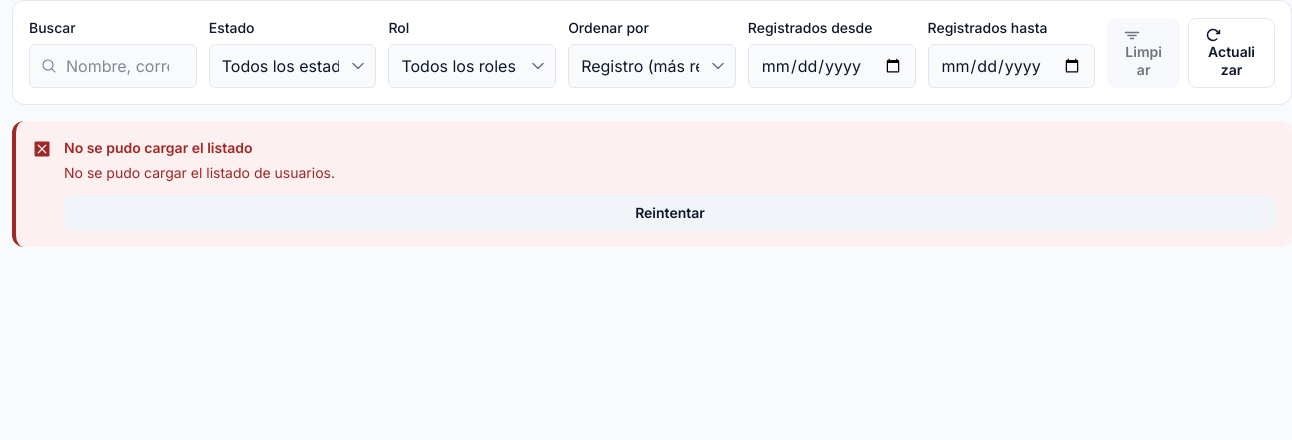
it: AdminUsersScreen › muestra error con reintento y recupera el listado
expect the text "No se pudo cargar el listado" is shown: met, box [64, 139, 252, 156]
Click the button "Reintentar": (670, 213) [64, 195, 1276, 231]
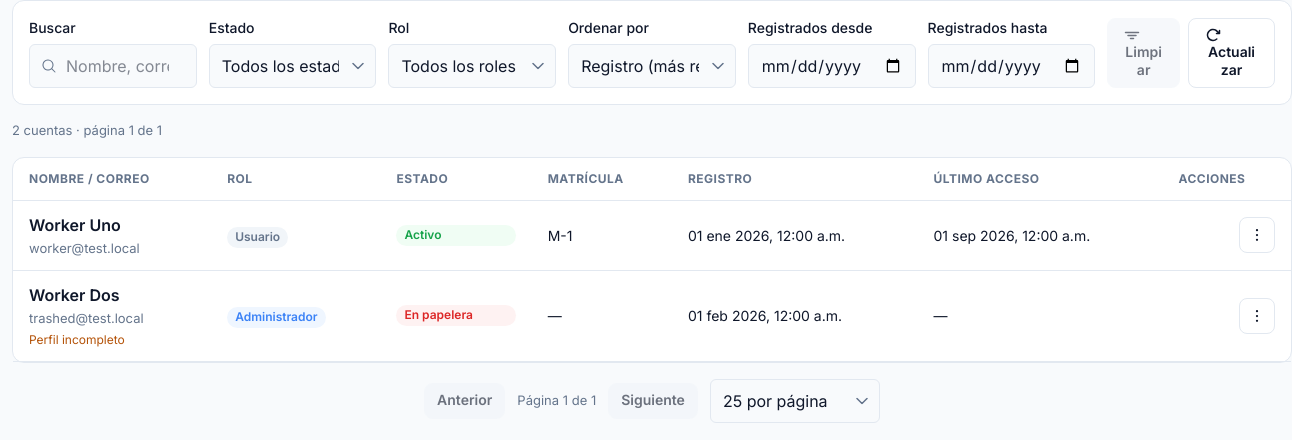
expect the text "Worker Uno" is shown: met, box [29, 214, 121, 234]
